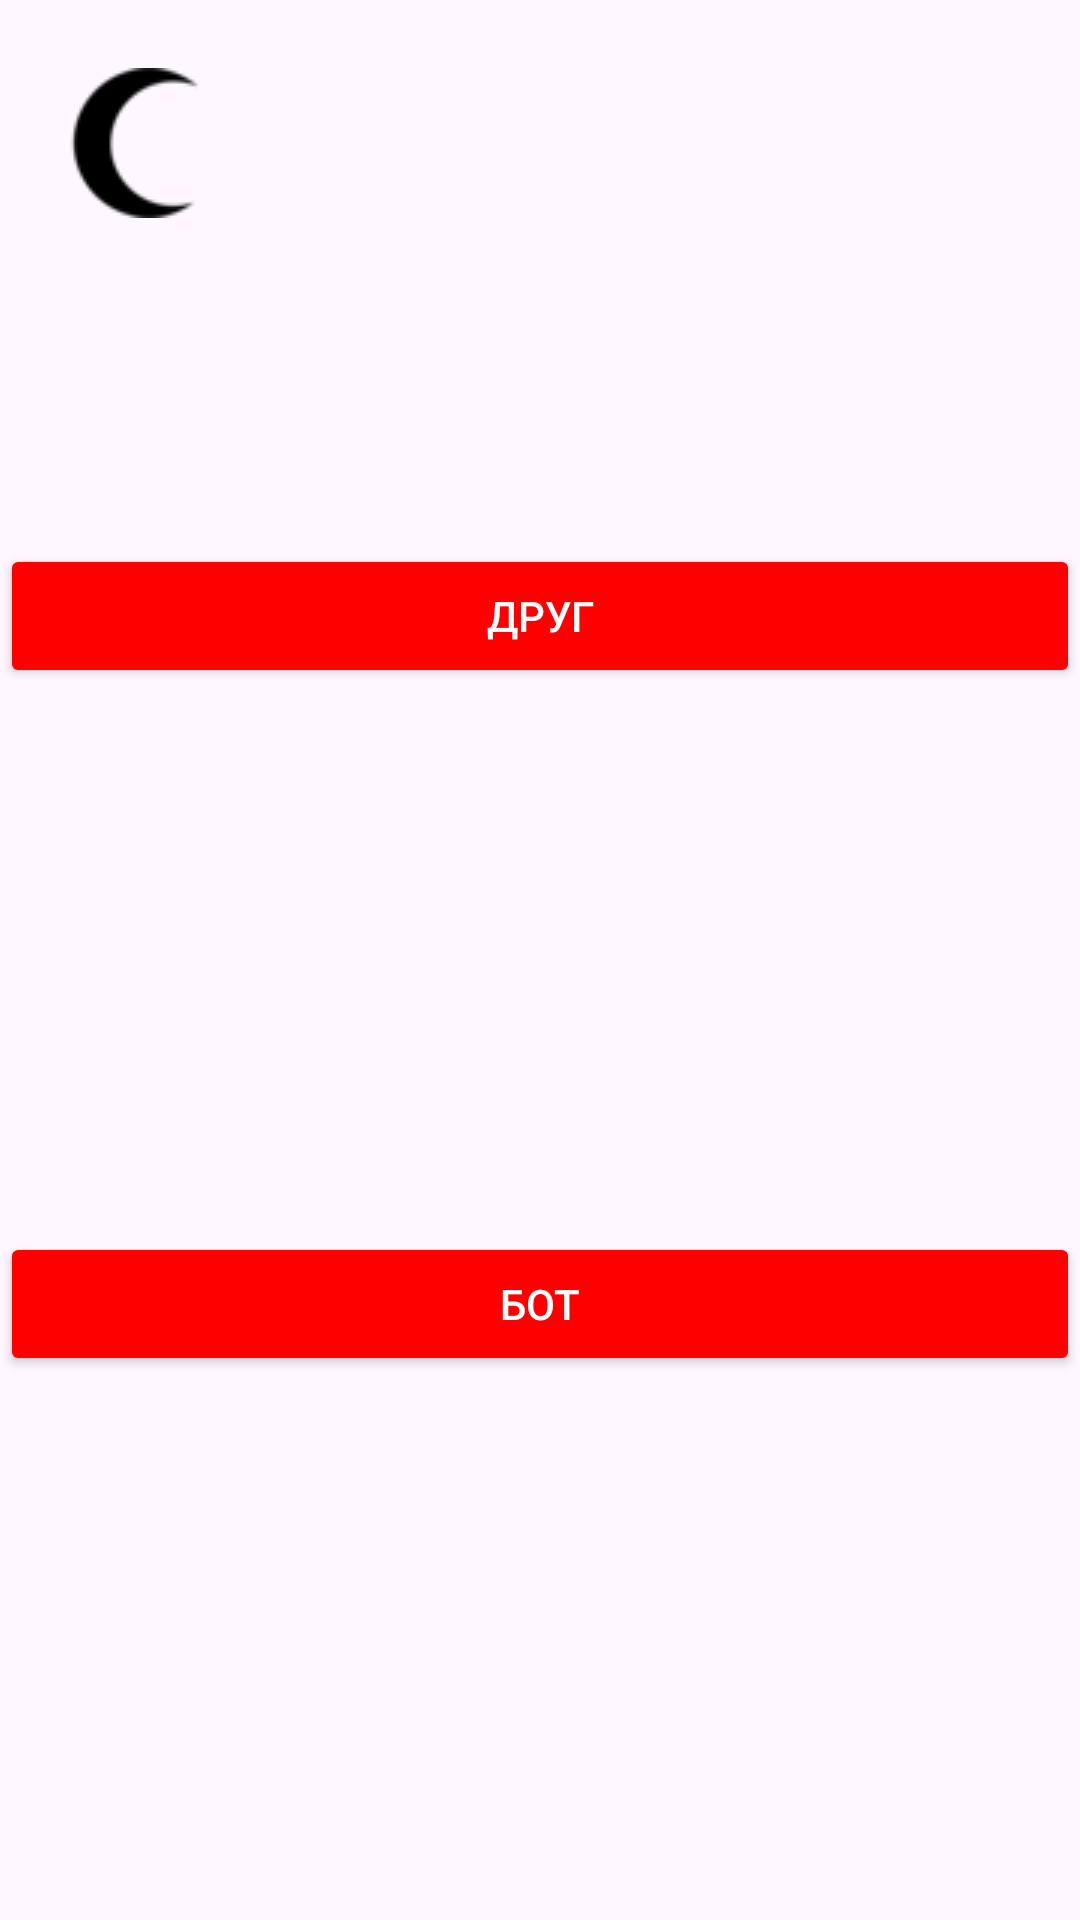

Locate icon controls on the screen. Image size 1080x1920, boxes as (x1, y1, x2, y2).
luna: (71, 68, 198, 218)
